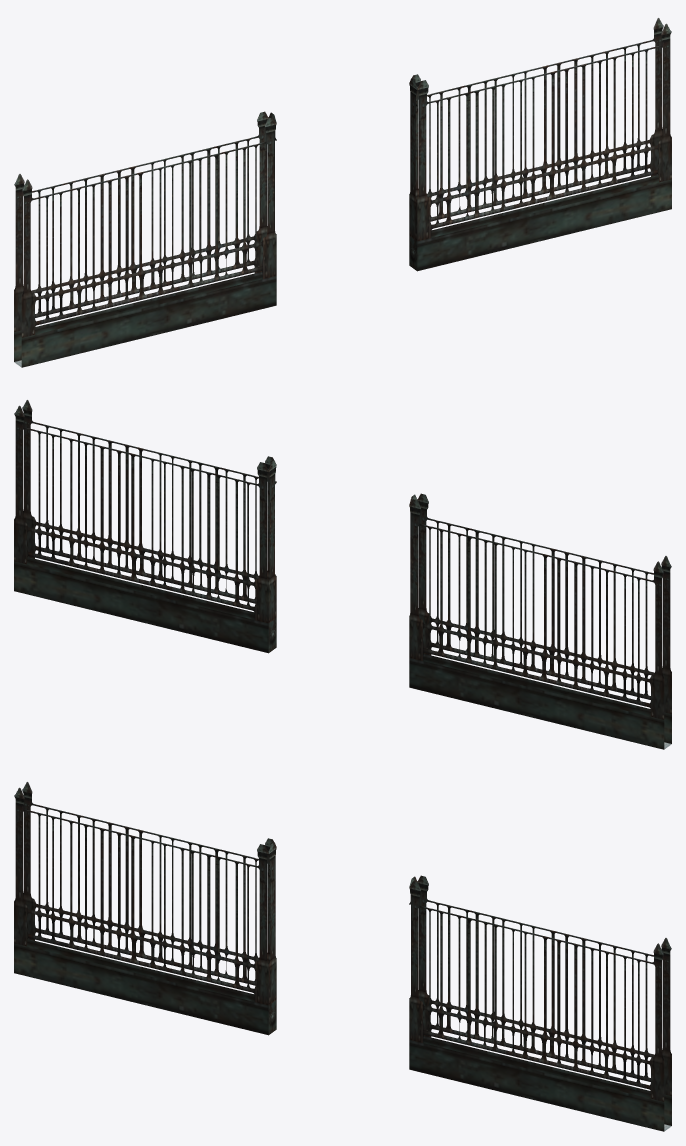
File: B04_Entrance.fbx
3 renders of one model, top to bottom at view 1: azimuth 30°, elevation 25°; view 2: azimuth 150°, elevation 25°; view 3: azimuth 330°, elevation 25°, orthographic.
Parts seen in each view (by area): view 1: EntraceGateB04; view 2: EntraceGateB04; view 3: EntraceGateB04.
Boxes of the visible parts, x1=… form: EntraceGateB04: x1=14, y1=18, x2=671, y2=367; EntraceGateB04: x1=14, y1=400, x2=671, y2=749; EntraceGateB04: x1=14, y1=782, x2=671, y2=1131.
Bounding box in the file's own units: 2.01 × 0.5589 × 0.0417.
1 material, 1 textured.
